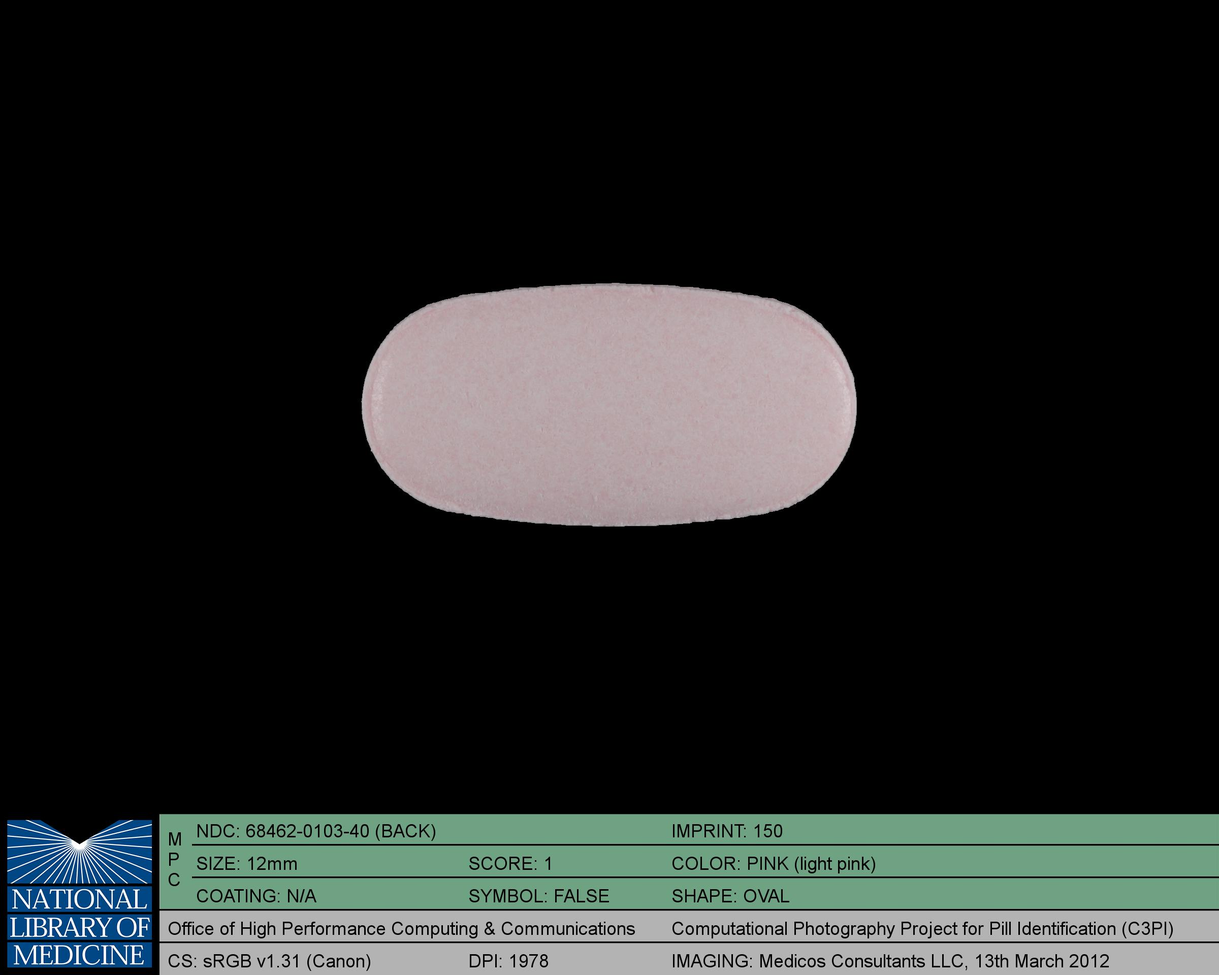Pill: (352, 273, 870, 537)
